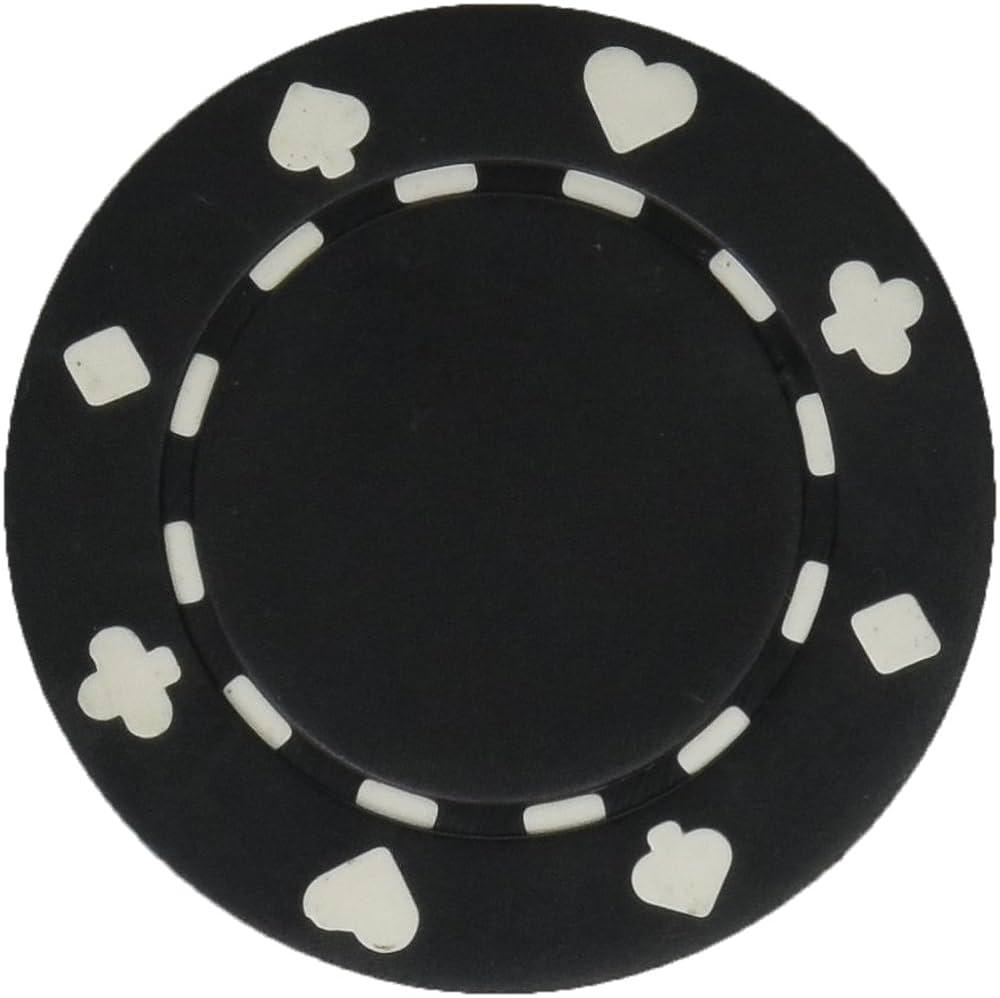chip-black: (8, 6, 992, 988)
